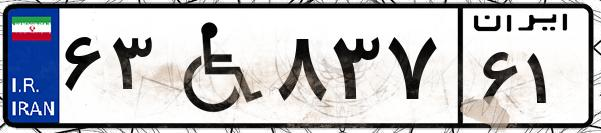1: (525, 38, 570, 115)
3: (330, 28, 385, 110), (110, 28, 158, 98)
6: (57, 26, 110, 100), (475, 38, 525, 113)
7: (385, 28, 445, 110)
8: (270, 28, 330, 110)
ژ (معلولین و جانبازان): (158, 12, 270, 120)
